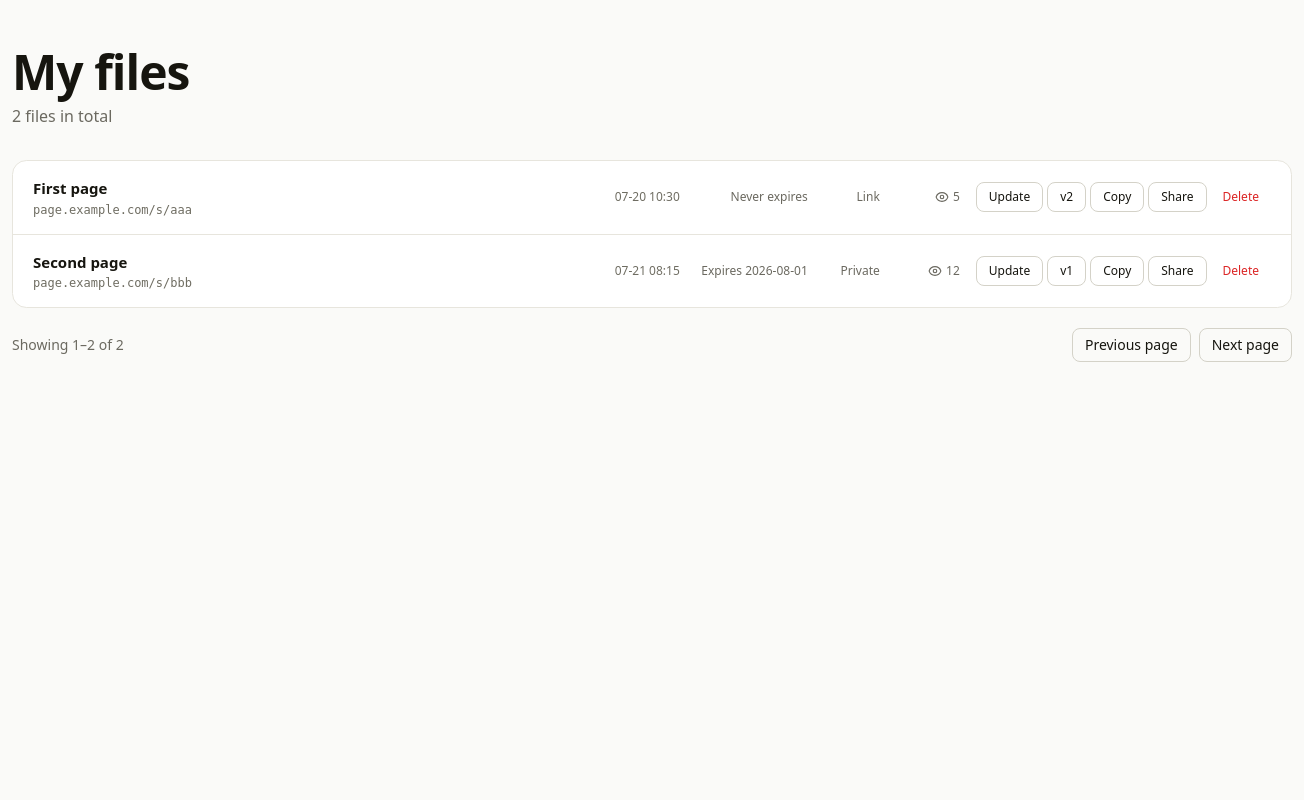
it: FilesPage › restore posts to the restore endpoint and reflects the new latest_version
This screenshot has width=1304, height=800.
Expected: the text "First page" is shown, [33,178,107,198]
What coordinates should you click on to do the following:
click the button named "Version history: First page"
I would click on:
 (1067, 197)
Its box is [1047,182,1086,212].
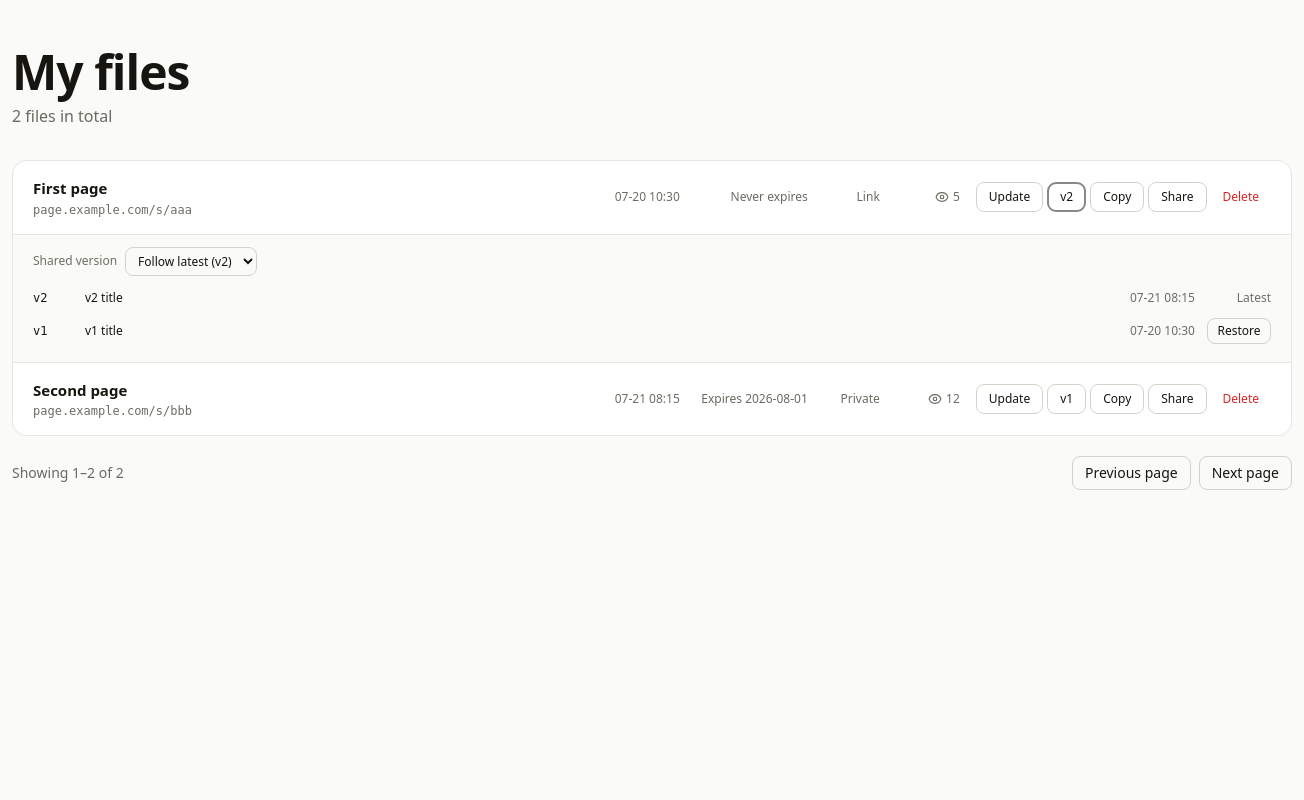
Now the text "v1 title" is shown, box [85,322,123,338]
What coordinates should you click on to do the following:
click the button with aria-label "Restore v1 as the latest version"
I would click on:
 (1239, 330)
Its box is [1207,318,1271,344].
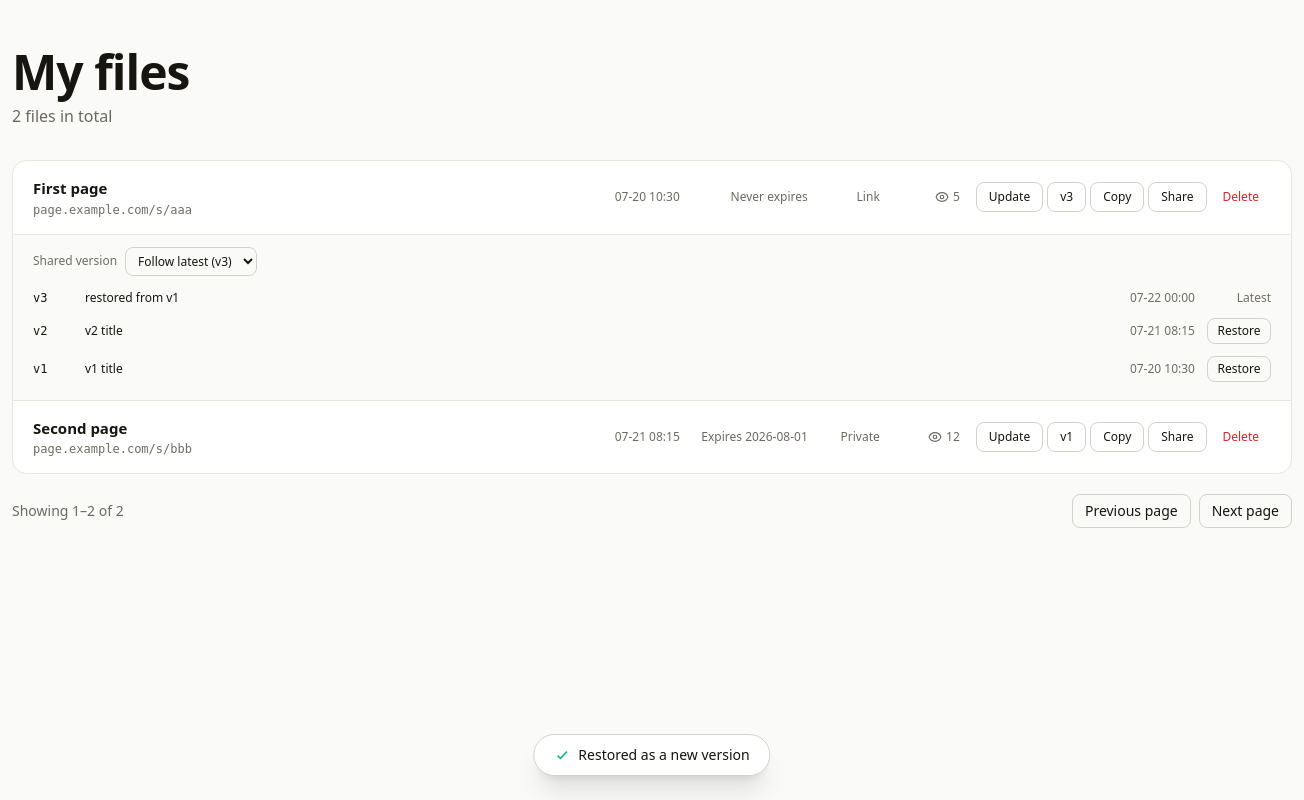
Now the button named "Version history: First page" reads "v3", box [1047,182,1086,212]
Now the text "restored from v1" is shown, box [85,288,179,306]
